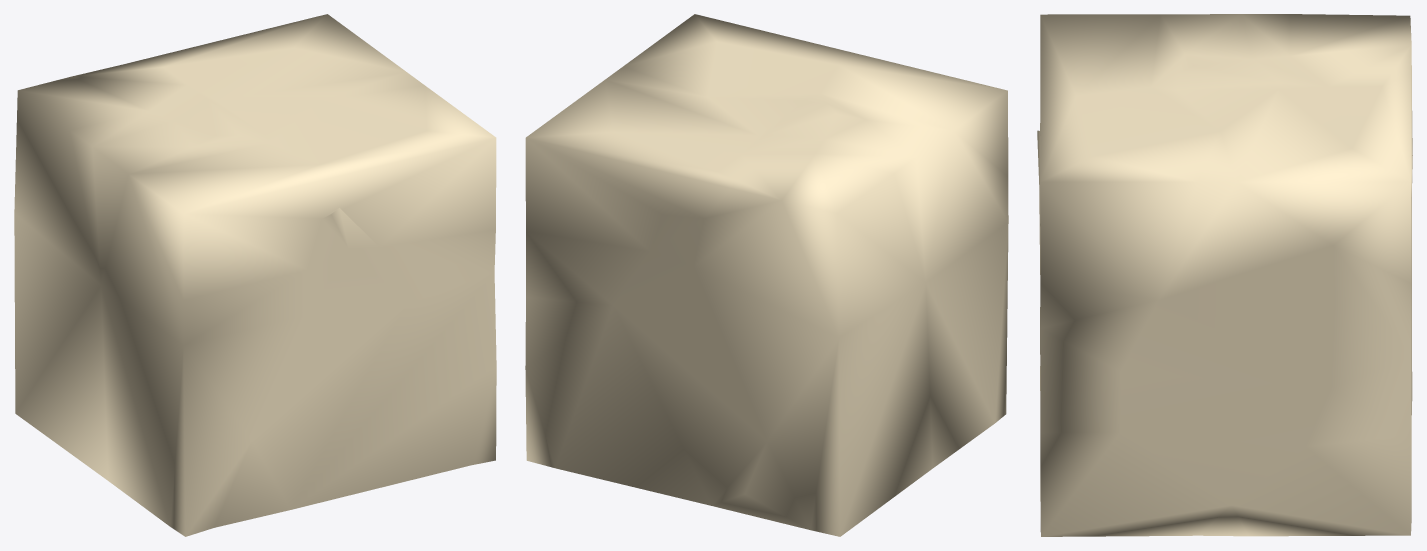
Rendered from runtime.glb.
3 views of the same model, side by side, from view 1: azimuth 30°, elevation 25°; view 2: azimuth 150°, elevation 25°; view 3: azimuth 270°, elevation 25° (orthographic). The views are drawn at different scales.
Parts seen in each view (by area): view 1: tripo_node_0a185a21-324d-4704-a7df-7859c0794eb1; view 2: tripo_node_0a185a21-324d-4704-a7df-7859c0794eb1; view 3: tripo_node_0a185a21-324d-4704-a7df-7859c0794eb1.
Part boxes in pixels (x1,y1,x2,y2): tripo_node_0a185a21-324d-4704-a7df-7859c0794eb1: (14,14,496,536); tripo_node_0a185a21-324d-4704-a7df-7859c0794eb1: (525,14,1008,536); tripo_node_0a185a21-324d-4704-a7df-7859c0794eb1: (1037,14,1412,536).
Size of the model in its own units: 0.9973 by 1 by 0.942.
